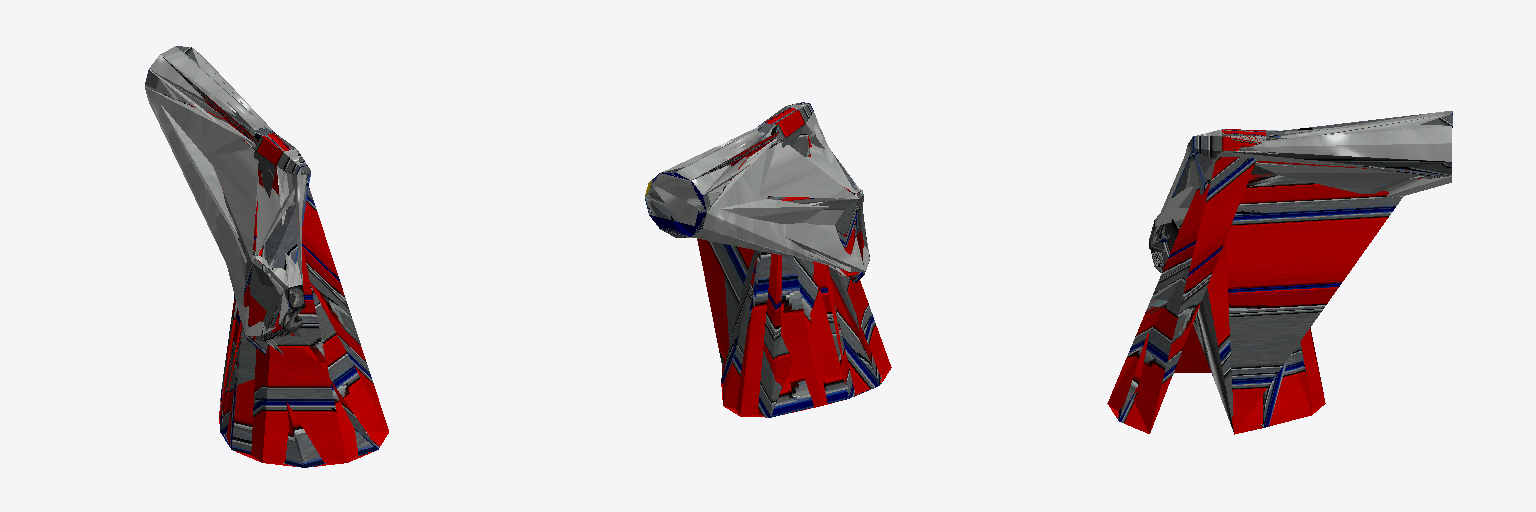
3 views of the same model, side by side, from view 1: azimuth 30°, elevation 25°; view 2: azimuth 150°, elevation 25°; view 3: azimuth 270°, elevation 25° (orthographic).
Parts seen in each view (by area): view 1: Object01, Object08, Object07, Object03, Object04; view 2: Object01, Object08, Object03, Object07, Object04, Object06; view 3: Object01, Object07, Object03, Object08, Object02, Object04.
Part boxes in pixels (bbox=[...]): Object01: bbox=[219, 150, 388, 467]; Object08: bbox=[145, 53, 306, 334]; Object07: bbox=[150, 46, 296, 335]; Object03: bbox=[145, 46, 388, 467]; Object04: bbox=[179, 49, 303, 174]; Object01: bbox=[697, 123, 891, 417]; Object08: bbox=[645, 104, 865, 276]; Object03: bbox=[649, 129, 890, 417]; Object07: bbox=[649, 112, 869, 271]; Object04: bbox=[645, 106, 804, 236]; Object06: bbox=[645, 172, 705, 236]; Object01: bbox=[1107, 149, 1451, 434]; Object07: bbox=[1155, 111, 1452, 226]; Object03: bbox=[1108, 111, 1451, 433]; Object08: bbox=[1155, 126, 1451, 251]; Object02: bbox=[1188, 136, 1267, 158]; Object04: bbox=[1222, 117, 1445, 168].
Size of the model in its own units: 51.85 by 105 by 113.
Materials: 3 (3 with a texture image).